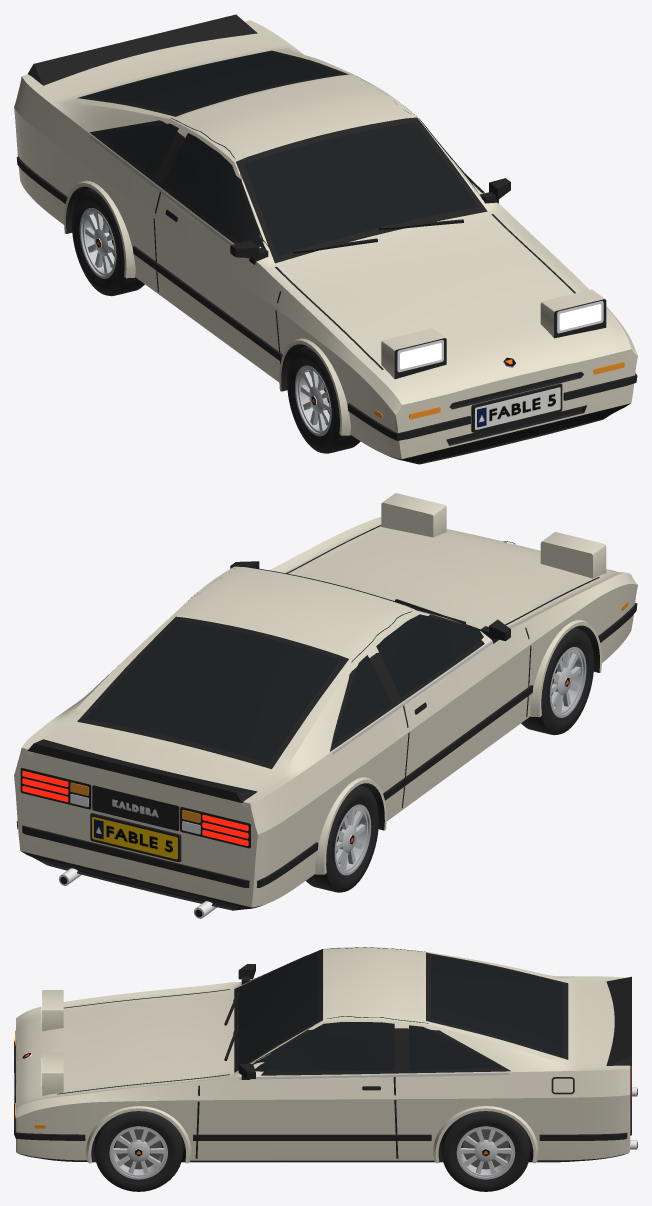
File: car.glb
3 views of the same model, one above another, from view 1: azimuth 30°, elevation 25°; view 2: azimuth 150°, elevation 25°; view 3: azimuth 270°, elevation 25° (orthographic). The views are drawn at different scales.
Visible parts, largest first — view 1: Body, WheelFL_Spin, WheelRL_Spin; view 2: Body, WheelRL_Spin, WheelFL_Spin; view 3: Body, WheelRR_Spin, WheelFR_Spin.
Boxes of the visible parts, x1,y1,x2,y2 form: Body: (14,14,637,464); WheelFL_Spin: (287,346,360,453); WheelRL_Spin: (72,188,144,296); Body: (14,493,637,918); WheelRL_Spin: (306,785,378,892); WheelFL_Spin: (521,627,594,735); Body: (14,947,637,1163); WheelRR_Spin: (441,1111,530,1191); WheelFR_Spin: (94,1111,182,1191).
Size of the model in its own units: 1.79 by 1.27 by 4.37.
Materials: 16 (4 with a texture image).
